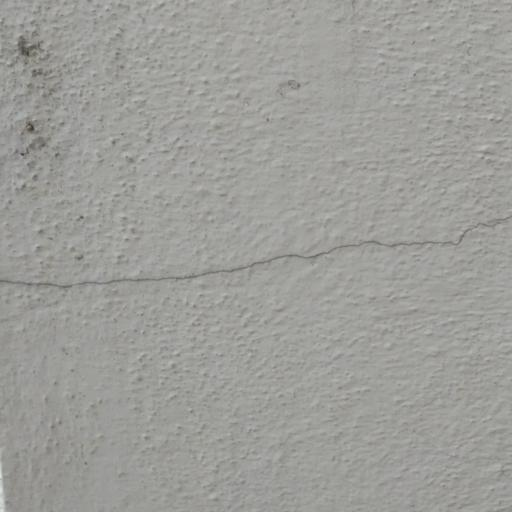minor_crack: (0, 211, 512, 295)
